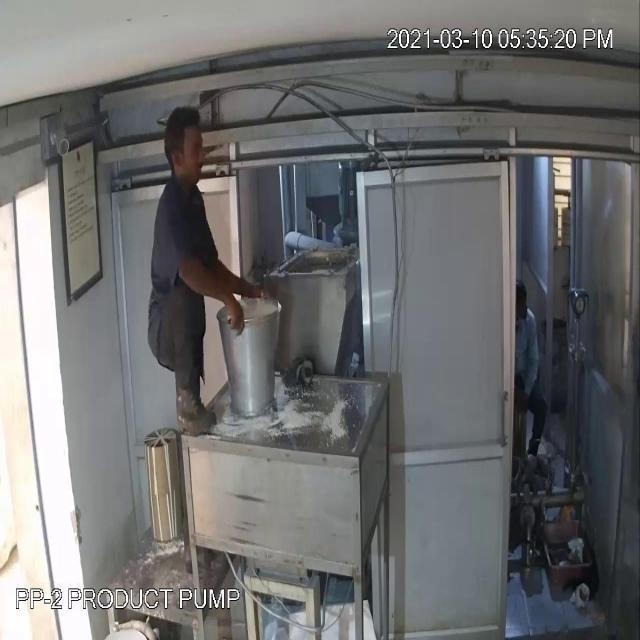No_Gloves: (163, 243, 250, 343)
